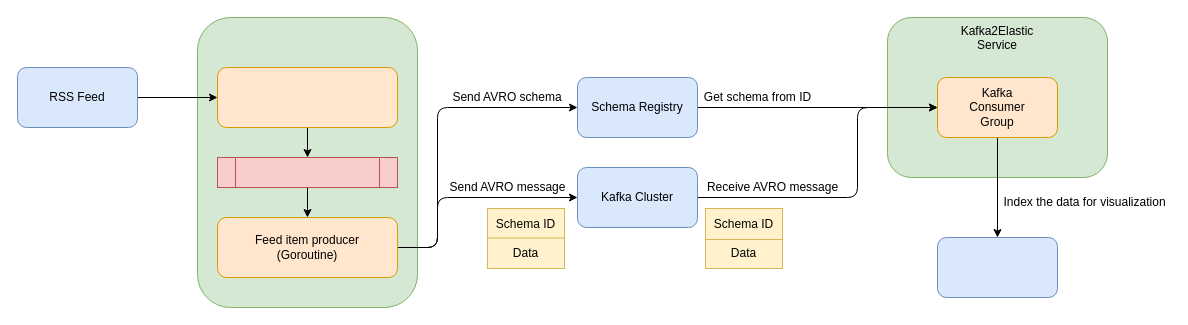
Image size: 1188x325. Some labels were removed from this diagram. The box of each missing label's shape, as (x1, y1, x2, y2) in pixels:
Buffered Channel: (216, 156, 398, 188)
Elasticsearch & Kibana: (936, 236, 1058, 298)
Feed item parser (Goroutine): (216, 66, 398, 128)
Feed2Kafka Service: (196, 16, 418, 308)
